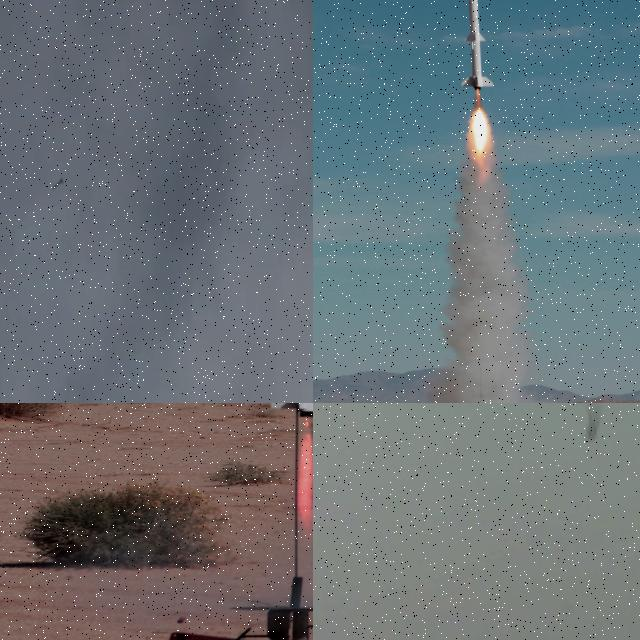Rocket: (460, 0, 495, 90), (53, 176, 63, 189)
